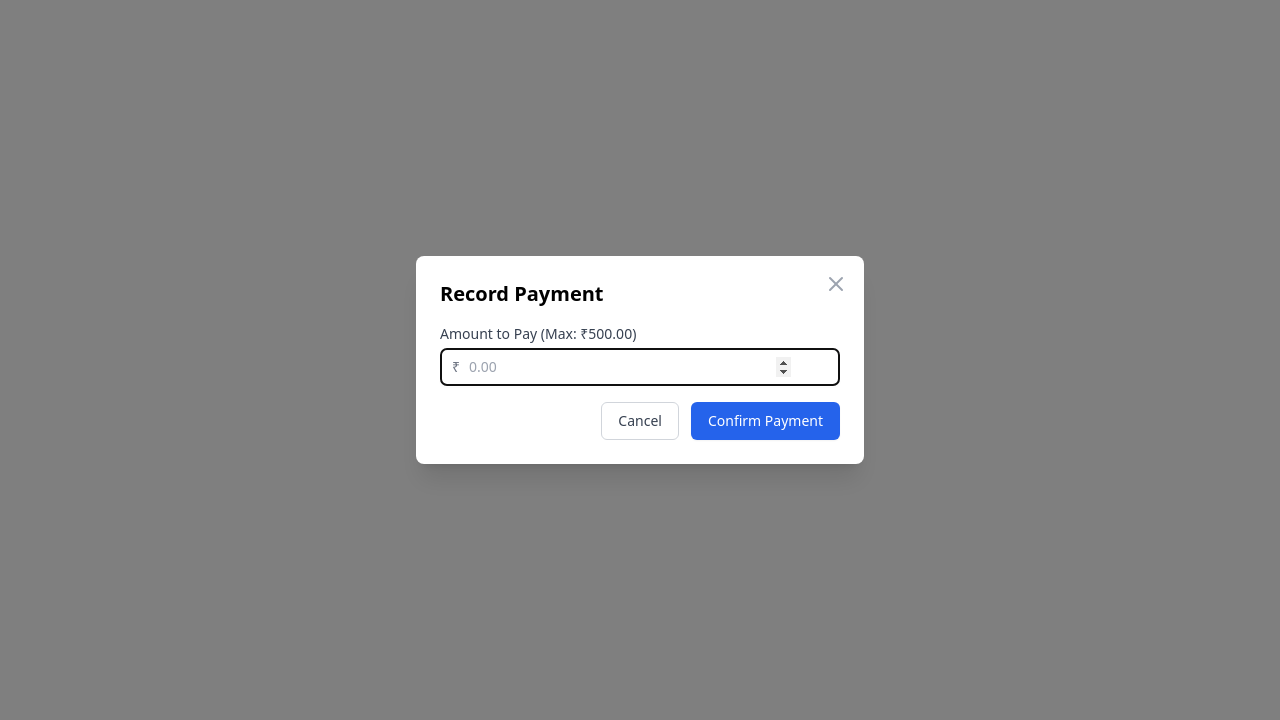
Test: AddPaymentModal › clears the amount after a successful submission
This screenshot has width=1280, height=720.
Type "100" into the number field at (640, 367), box 440,348 -> 840,386
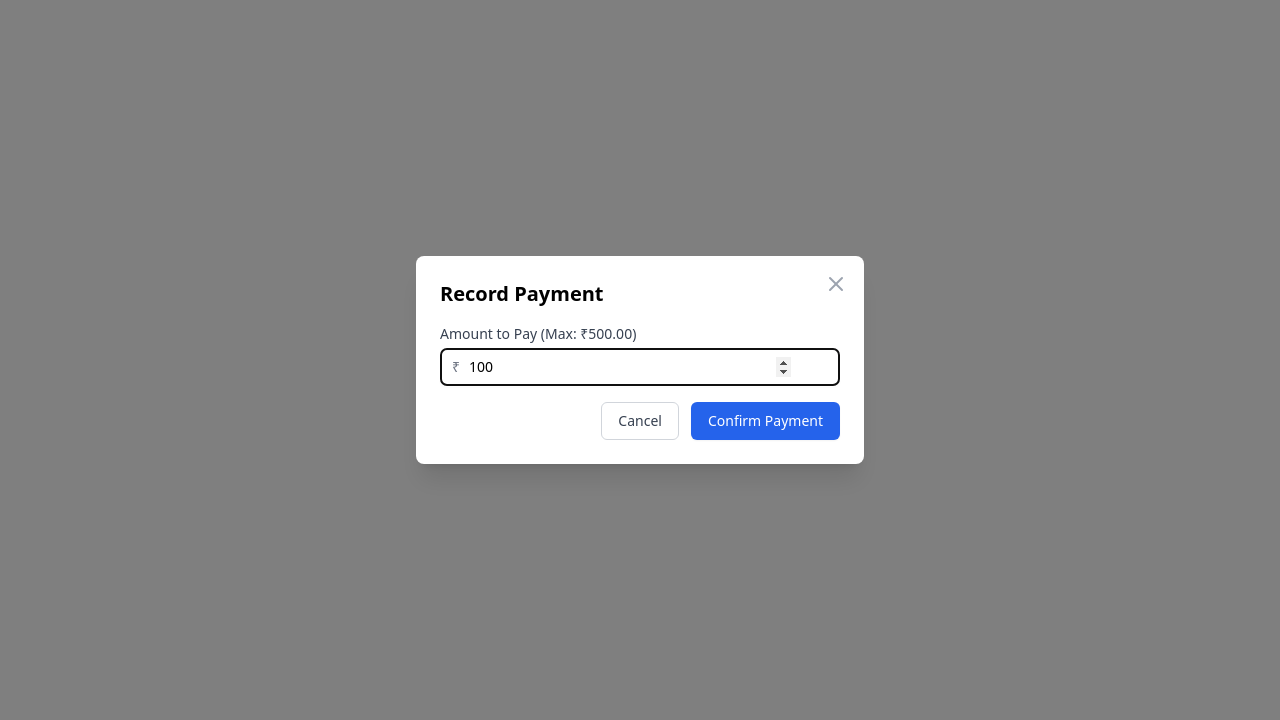
Click the button "Confirm Payment" at (765, 421), box 691,402 -> 840,440
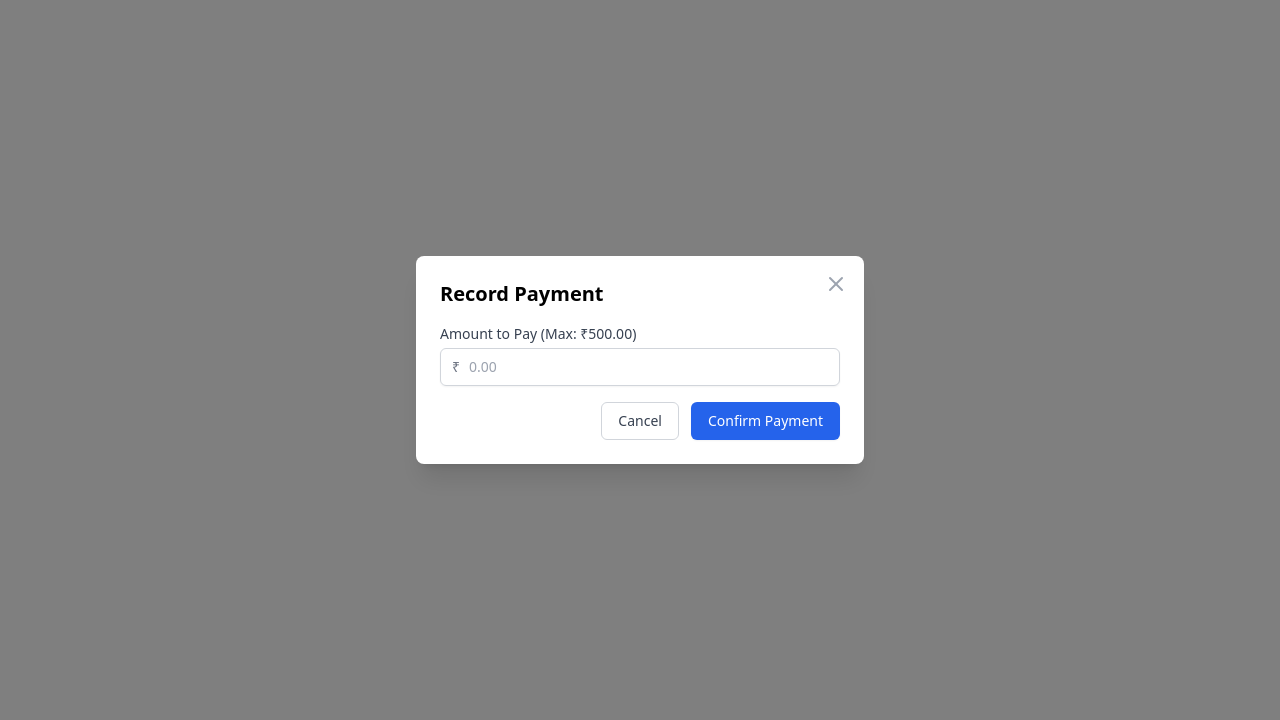
Check: the number field is not empty, box 440,348 -> 840,386
